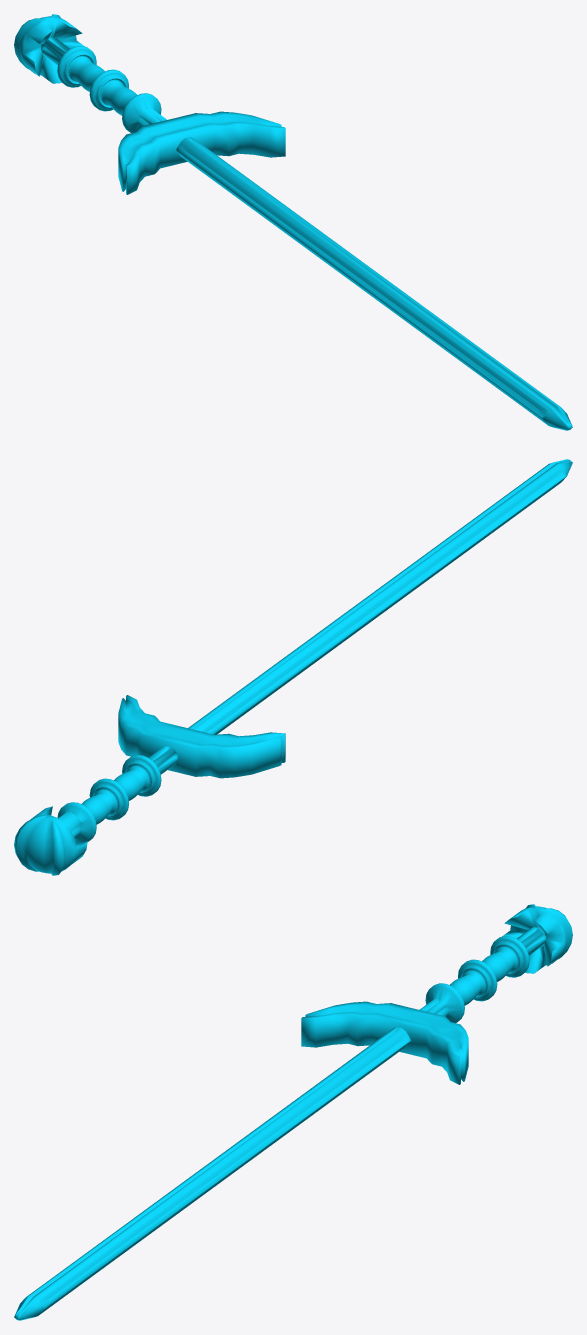
File: Pointy.fbx
3 views of the same model, one above another, from view 1: azimuth 30°, elevation 25°; view 2: azimuth 150°, elevation 25°; view 3: azimuth 330°, elevation 25° (orthographic).
Visible parts, largest first — view 1: SwordBlade4_low, SwordHilt_low, SwordHandle_low, SwordPommel_low; view 2: SwordBlade4_low, SwordHilt_low, SwordHandle_low, SwordPommel_low; view 3: SwordBlade4_low, SwordHilt_low, SwordHandle_low, SwordPommel_low.
Part boxes in pixels (box(x1,y1,x2,y2)): SwordBlade4_low: box(175, 137, 572, 430); SwordHilt_low: box(118, 111, 285, 194); SwordHandle_low: box(40, 37, 166, 133); SwordPommel_low: box(14, 14, 84, 83); SwordBlade4_low: box(188, 459, 572, 734); SwordHilt_low: box(118, 695, 285, 778); SwordHandle_low: box(57, 746, 177, 842); SwordPommel_low: box(14, 806, 87, 875); SwordBlade4_low: box(14, 1027, 411, 1320); SwordHilt_low: box(301, 1001, 468, 1084); SwordHandle_low: box(419, 927, 546, 1023); SwordPommel_low: box(502, 904, 572, 973).
Size of the model in its own units: 247 by 83.4 by 1447.
